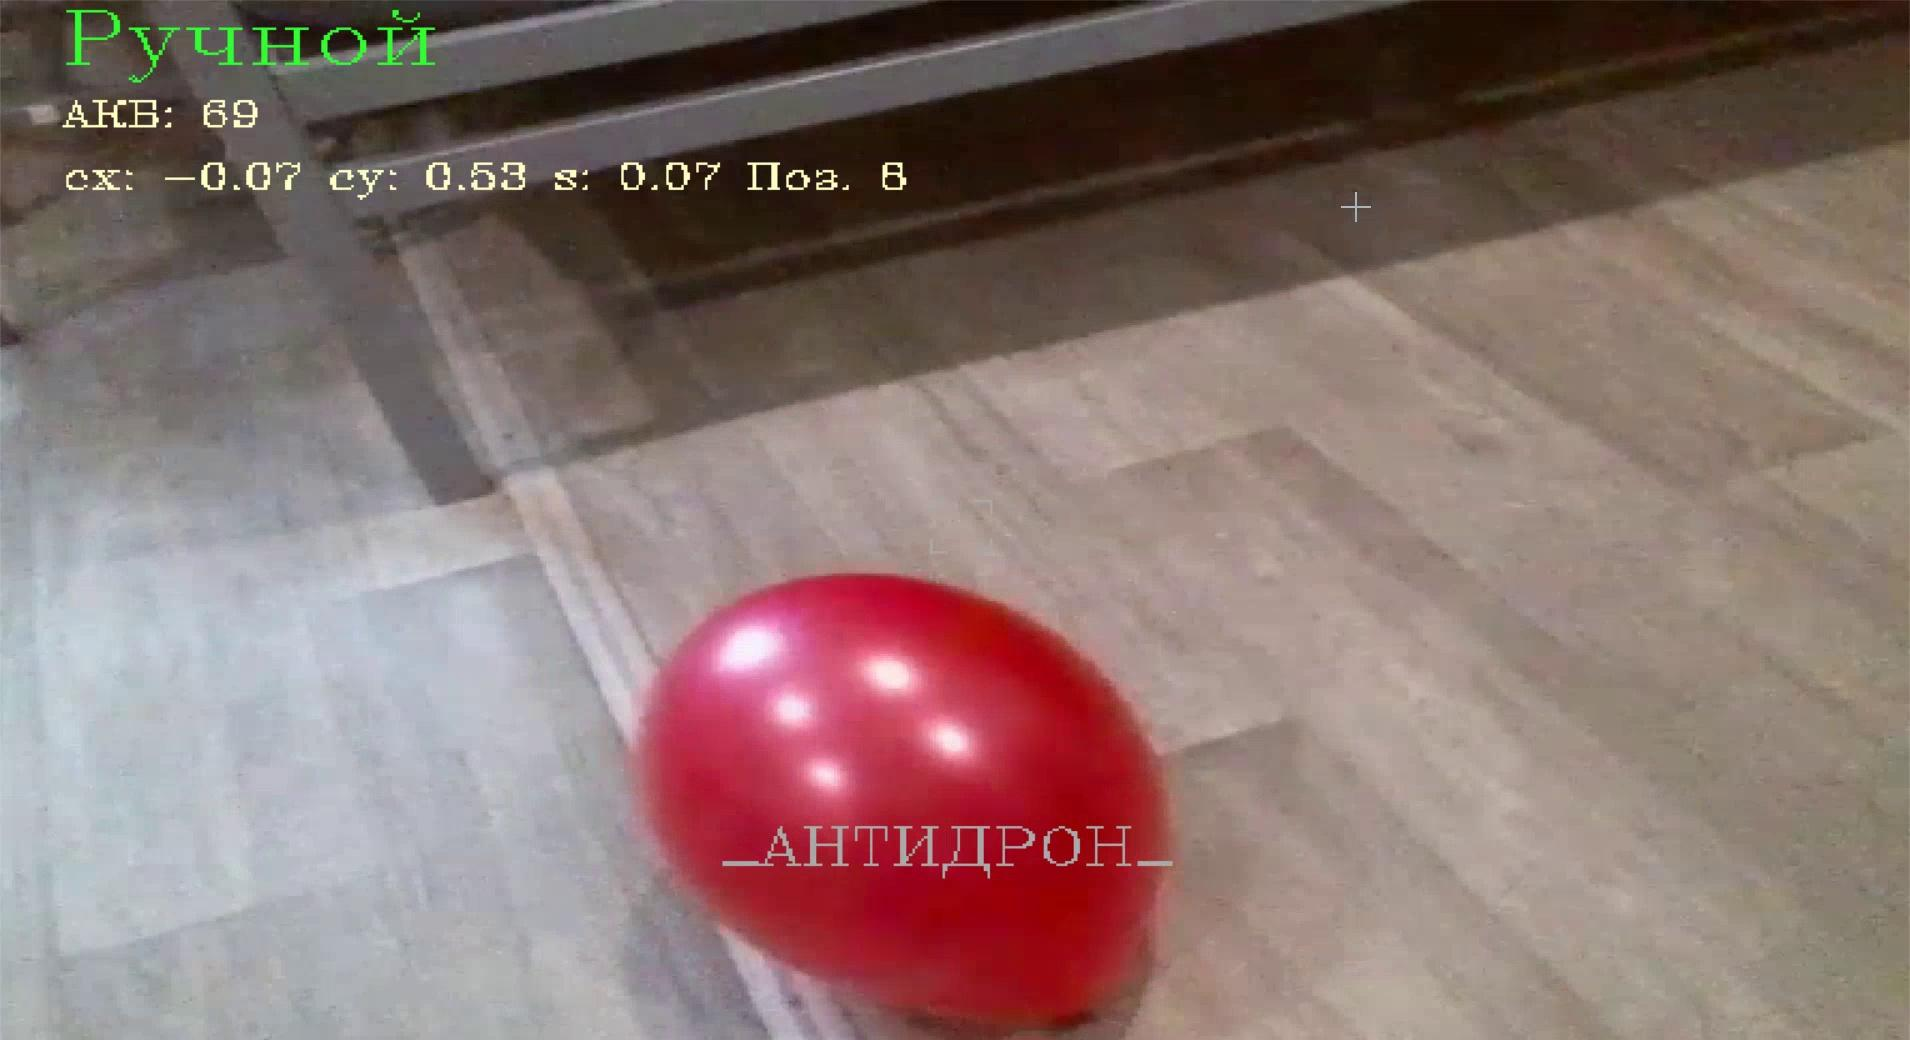red: (622, 559, 1175, 1040)
